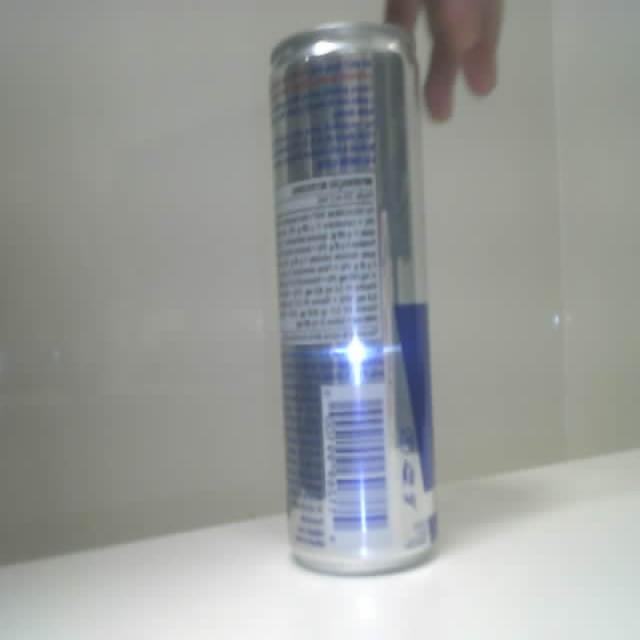redbull can: (271, 24, 435, 573)
